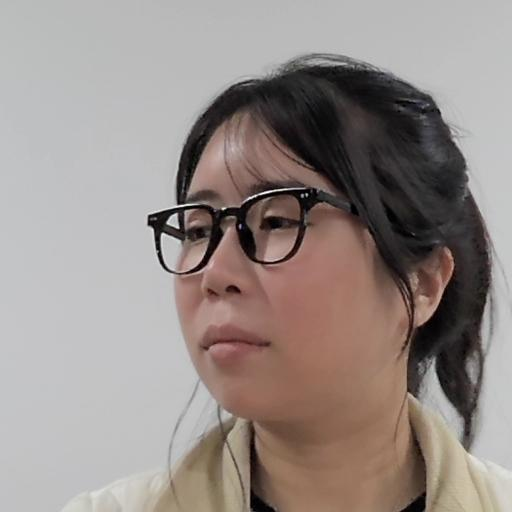no_glasses: (132, 78, 484, 438)
